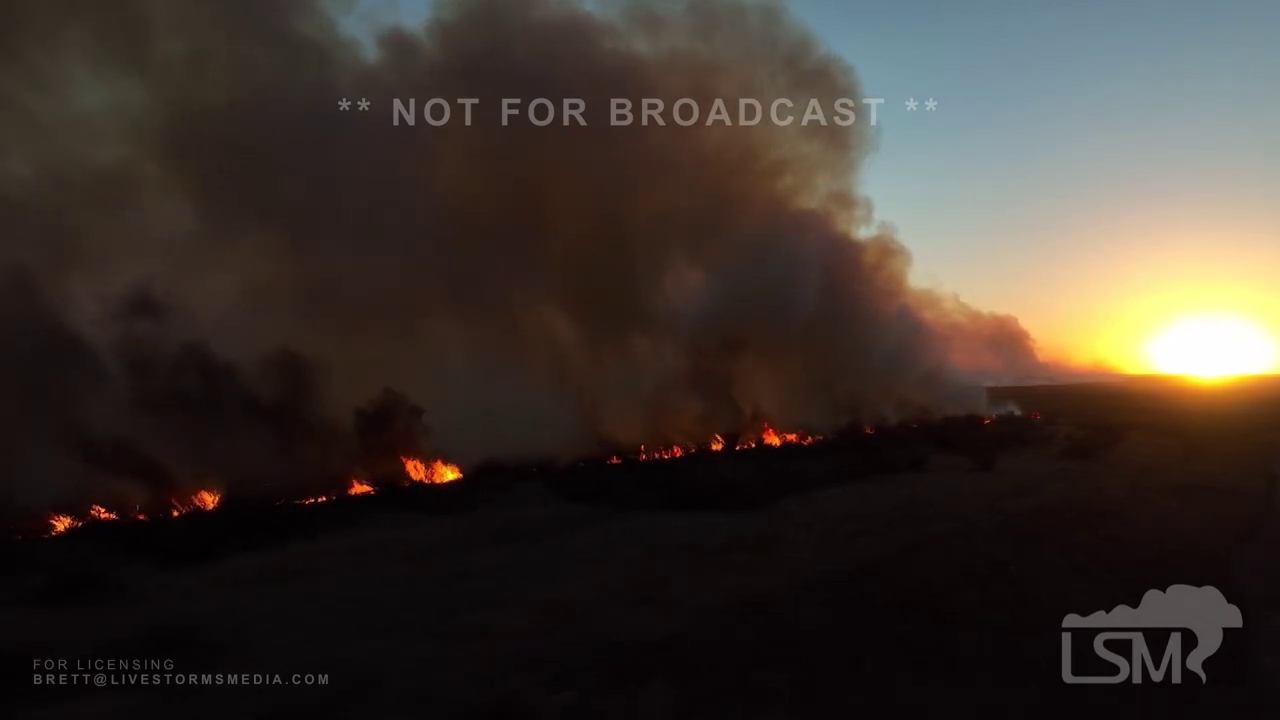forest_fire: (632, 422, 822, 461), (286, 476, 377, 504), (47, 504, 123, 535), (398, 455, 463, 484), (170, 489, 222, 517)
